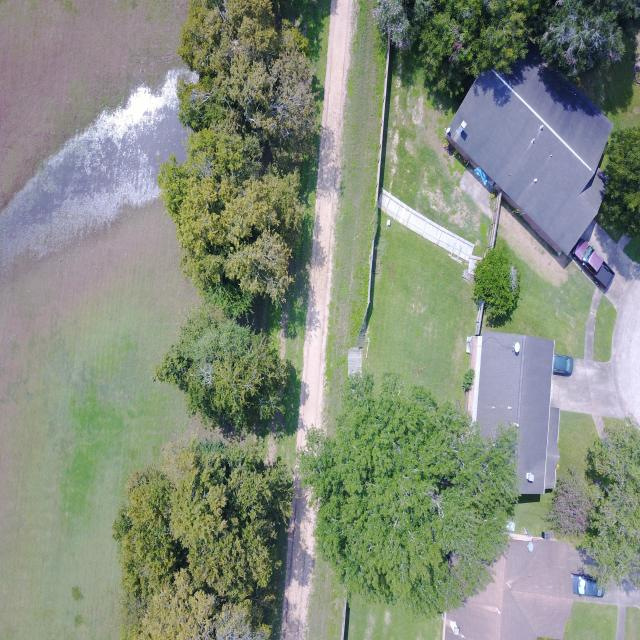fire: (0, 68, 193, 270)
